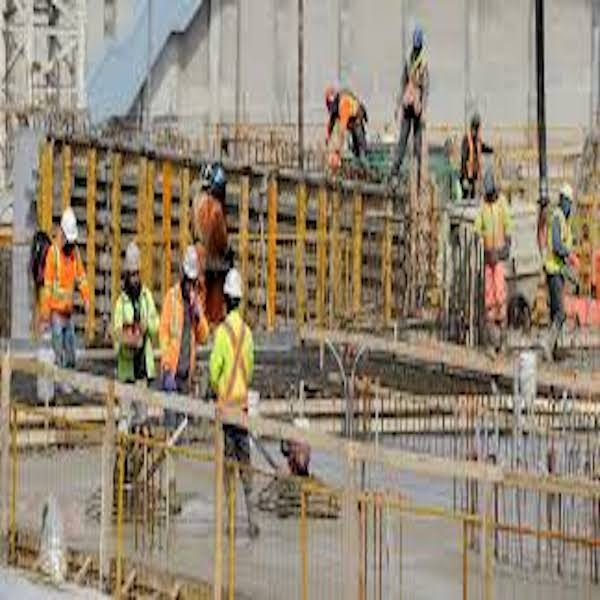helmet: (60, 202, 83, 242), (182, 241, 203, 281), (124, 239, 146, 277), (223, 269, 246, 302), (553, 181, 581, 206), (411, 22, 428, 56), (323, 83, 341, 112)
vest: (211, 312, 256, 411), (112, 288, 161, 370), (44, 244, 83, 324), (476, 195, 511, 262), (546, 206, 574, 279)
